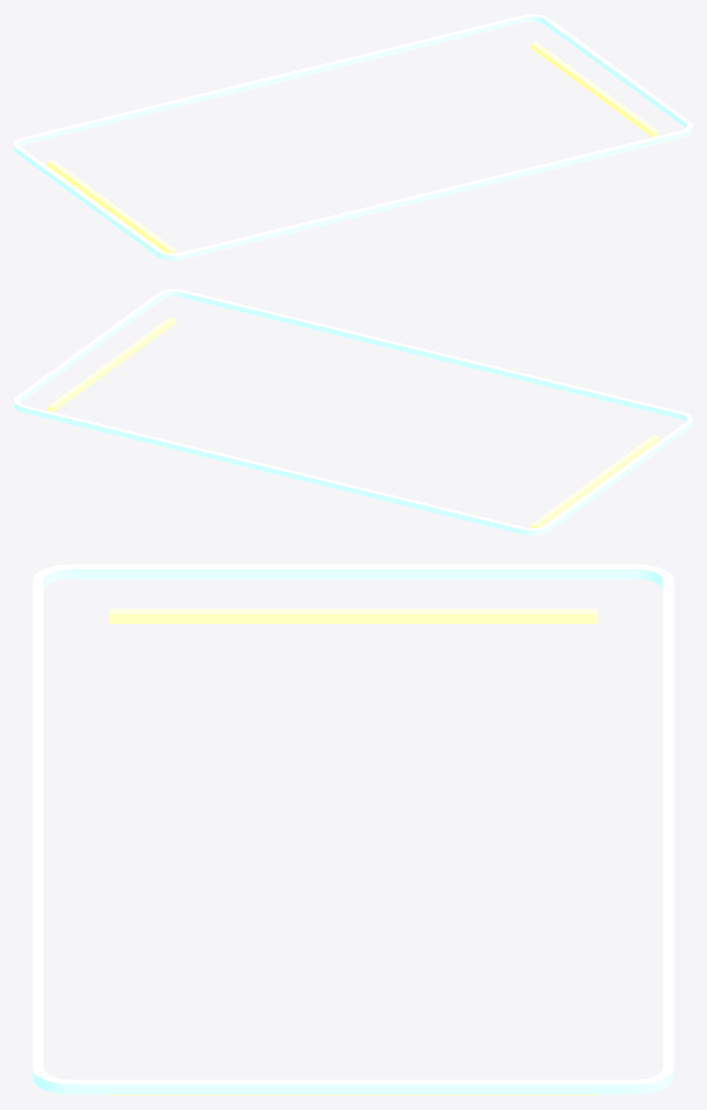
Rendered from 25_PS_Table_FloatingUnderGlow.glb.
The picture shows the model from 3 angles, top to bottom: view 1: azimuth 30°, elevation 25°; view 2: azimuth 150°, elevation 25°; view 3: azimuth 270°, elevation 25°; orthographic projection. The views are drawn at different scales.
Parts seen in each view (by area): view 1: PS_Table_FloatingUnderGlow; view 2: PS_Table_FloatingUnderGlow; view 3: PS_Table_FloatingUnderGlow.
Part boxes in pixels (box(x1,y1,x2,y2)): PS_Table_FloatingUnderGlow: box(14, 14, 692, 260); PS_Table_FloatingUnderGlow: box(14, 289, 692, 535); PS_Table_FloatingUnderGlow: box(32, 564, 674, 1095).
Size of the model in its own units: 8.82 by 0.26 by 4.6.
